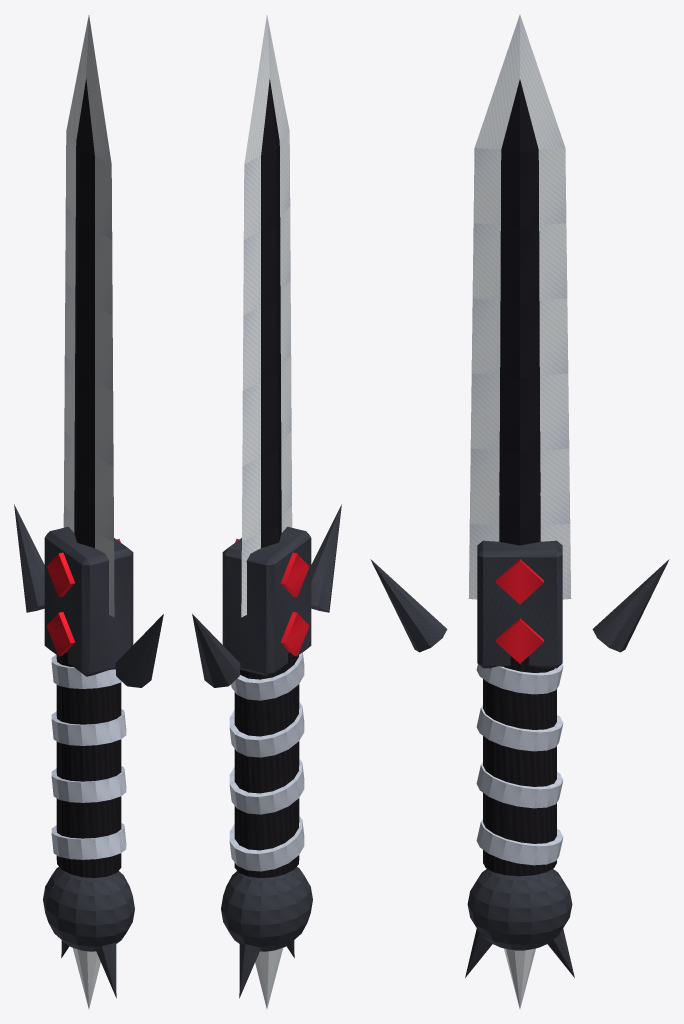
The model's file is Dagger.obj.
3 views of the same model, side by side, from view 1: azimuth 30°, elevation 25°; view 2: azimuth 150°, elevation 25°; view 3: azimuth 270°, elevation 25° (orthographic).
Parts seen in each view (by area): view 1: Dagger; view 2: Dagger; view 3: Dagger.
Part boxes in pixels (box(x1,y1,x2,y2)): Dagger: box(14, 15, 163, 1008); Dagger: box(192, 15, 341, 1008); Dagger: box(370, 14, 669, 1008).
Size of the model in its own units: 0.3011 by 3.86 by 1.05.
Materials: 1 (1 with a texture image).
